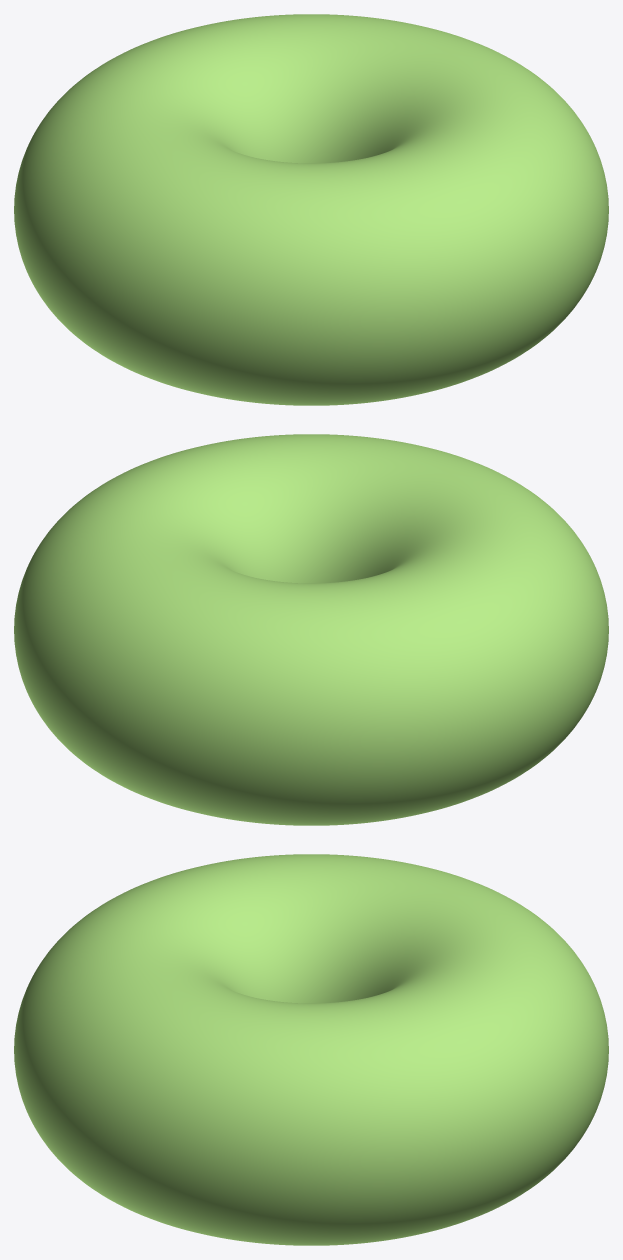
The model's file is donut.glb.
The picture shows the model from 3 angles, top to bottom: view 1: azimuth 30°, elevation 25°; view 2: azimuth 150°, elevation 25°; view 3: azimuth 270°, elevation 25°; orthographic projection.
Visible parts, largest first — view 1: Torus; view 2: Torus; view 3: Torus.
Boxes of the visible parts, x1,y1,x2,y2 form: Torus: (14, 14, 608, 405); Torus: (14, 434, 608, 825); Torus: (14, 854, 608, 1245).
Size of the model in its own units: 1.21 by 0.4926 by 1.21.
